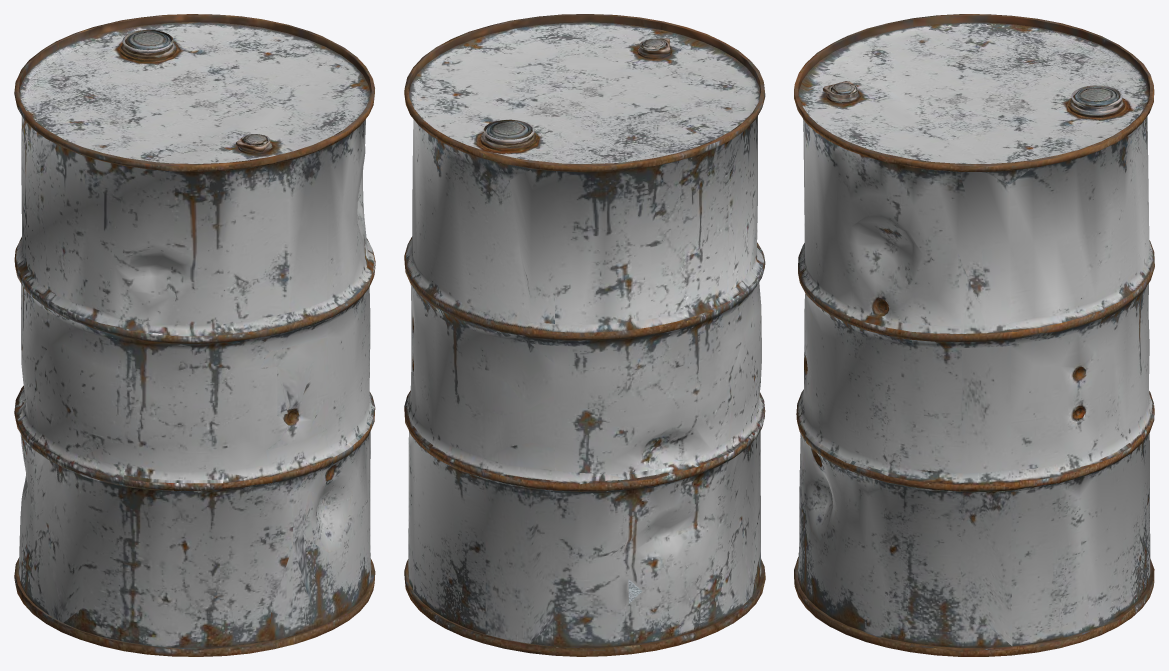
File: drum.glb
The picture shows the model from 3 angles, left to right: view 1: azimuth 30°, elevation 25°; view 2: azimuth 150°, elevation 25°; view 3: azimuth 270°, elevation 25°; orthographic projection.
Visible parts, largest first — view 1: drum; view 2: drum; view 3: drum.
Boxes of the visible parts, <box> form: drum: <box>14,14,375,656</box>; drum: <box>404,14,765,656</box>; drum: <box>794,14,1154,656</box>.
Size of the model in its own units: 0.582 by 0.88 by 0.5828.
1 material, 1 textured.
